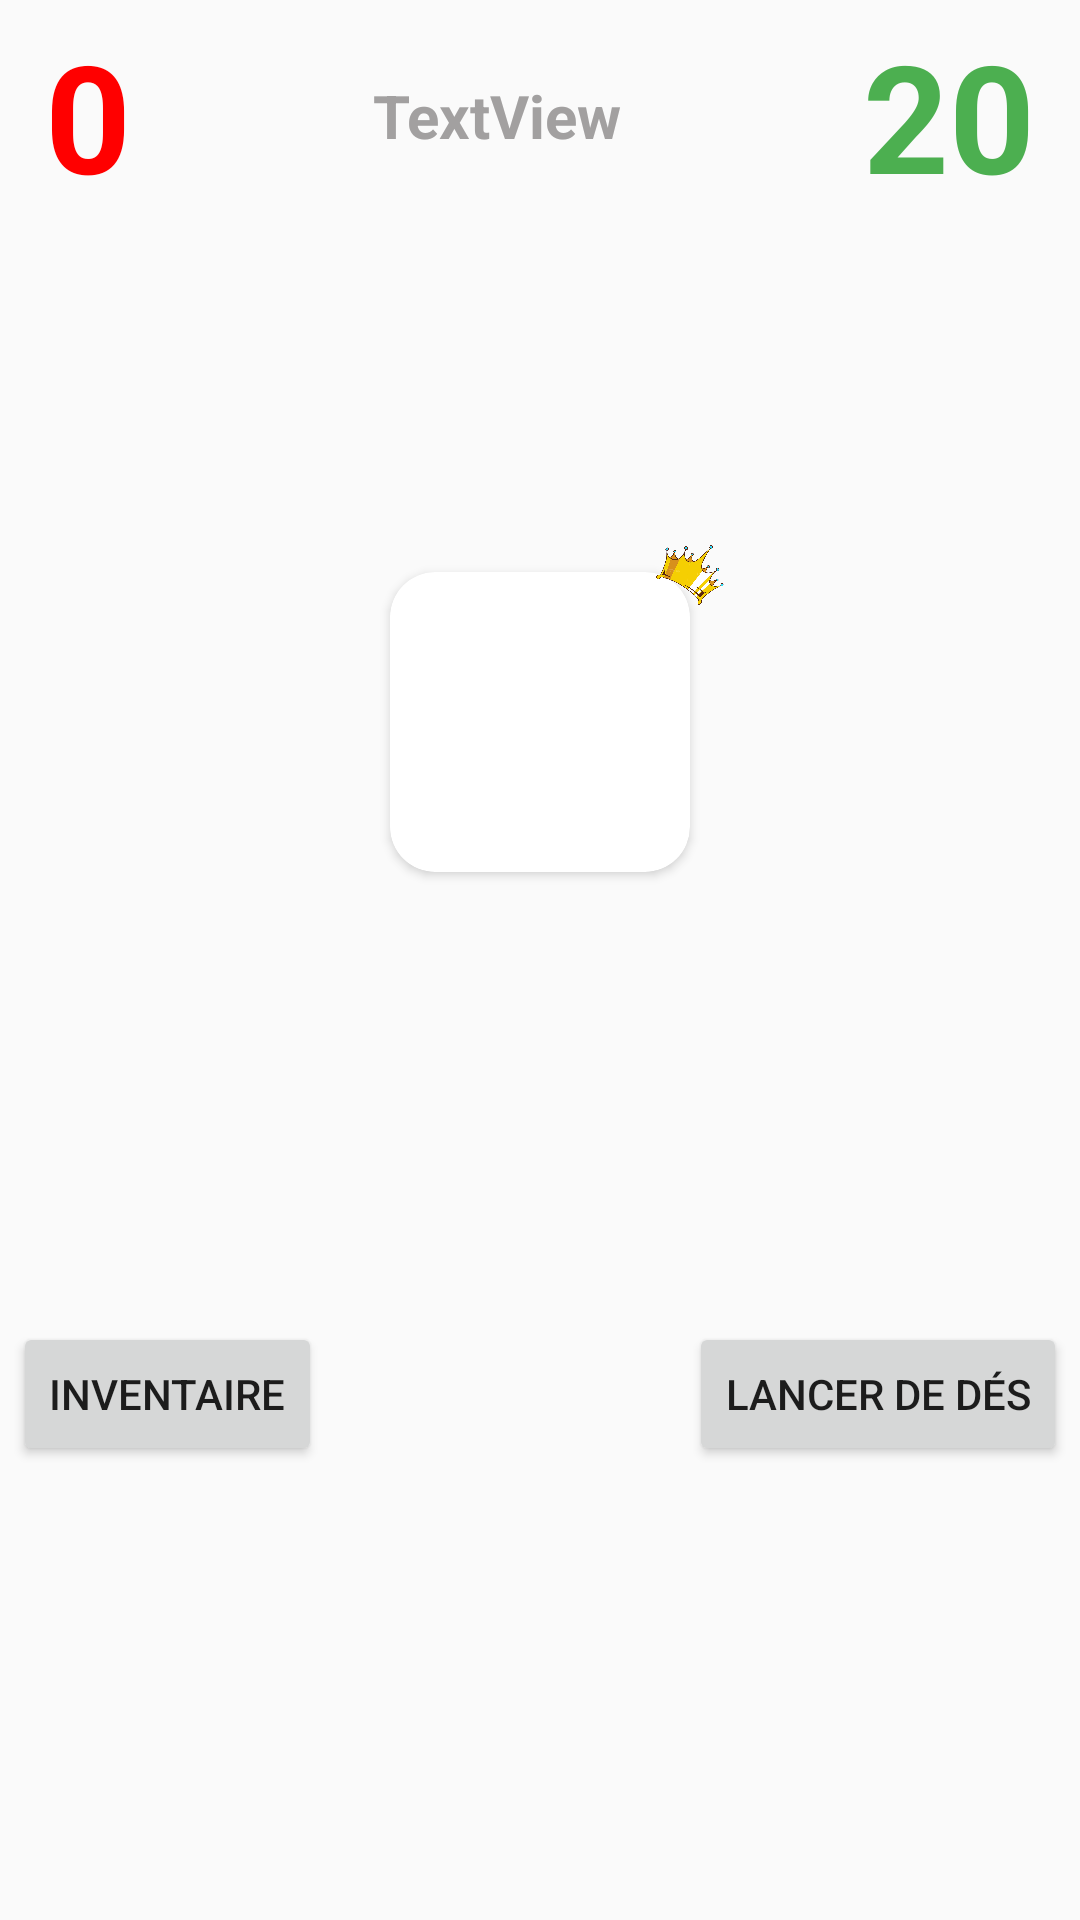

Icons on this 1080 x 1920 Android screen, each with the point to tap as point (x, y):
crown: point (690, 575)
